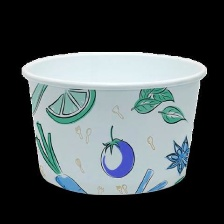paper_cup: (14, 45, 211, 200)
